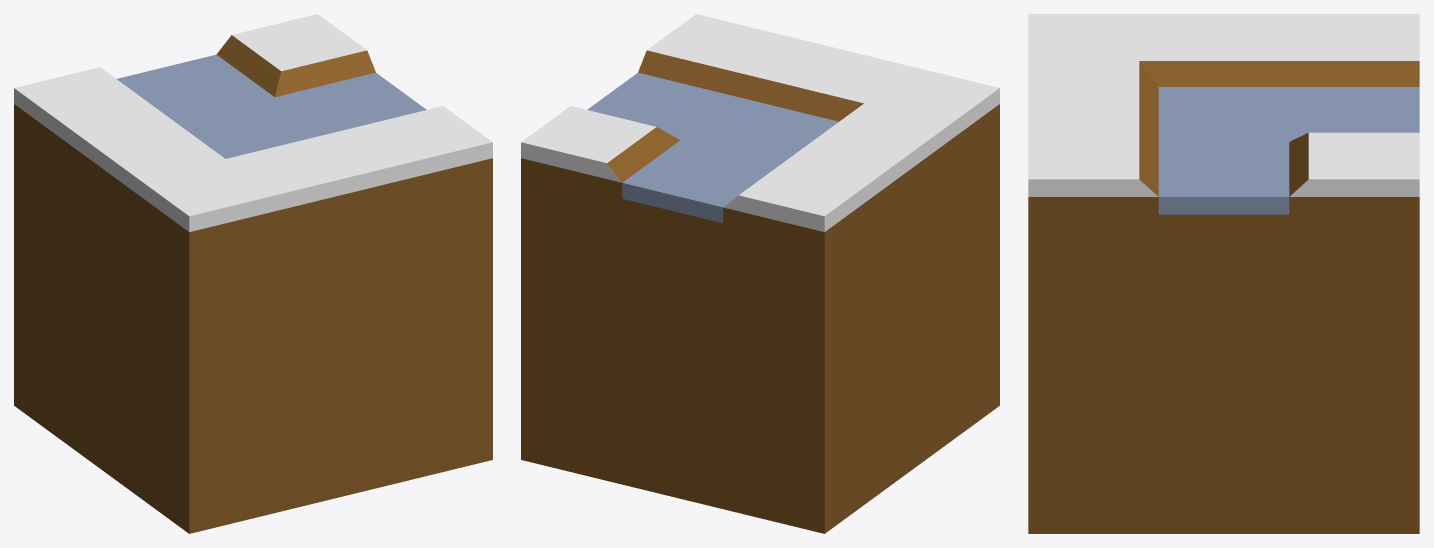
File: WinterRiverCurveCube.fbx
3 views of the same model, side by side, from view 1: azimuth 30°, elevation 25°; view 2: azimuth 150°, elevation 25°; view 3: azimuth 270°, elevation 25° (orthographic). The views are drawn at different scales.
Visible parts, largest first — view 1: WinterRiverCurveCube; view 2: WinterRiverCurveCube; view 3: WinterRiverCurveCube.
Boxes of the visible parts, <box> form: WinterRiverCurveCube: <box>14,14,492,533</box>; WinterRiverCurveCube: <box>521,14,999,533</box>; WinterRiverCurveCube: <box>1028,14,1419,533</box>.
Size of the model in its own units: 1 by 1 by 1.
